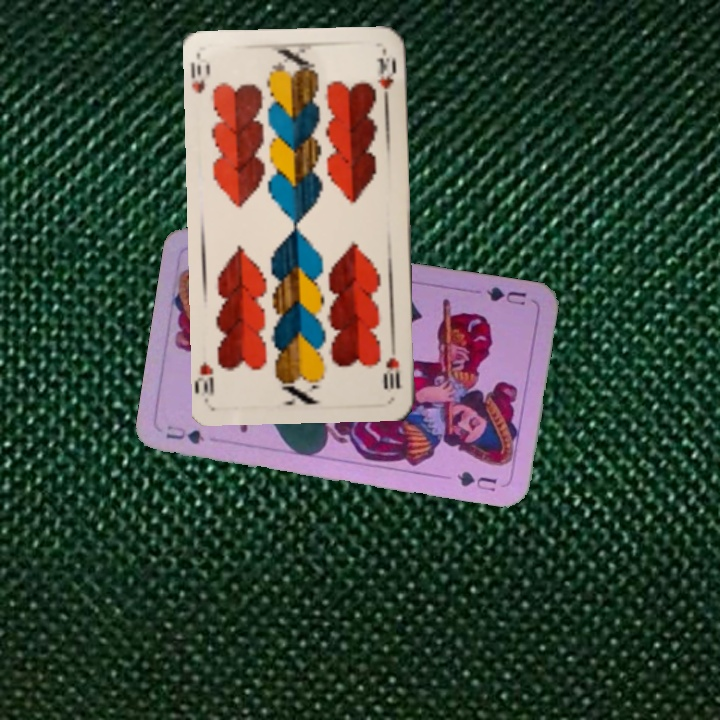GU: (482, 283, 529, 308), (162, 421, 207, 447)
H10: (381, 338, 403, 392), (187, 58, 207, 96)
